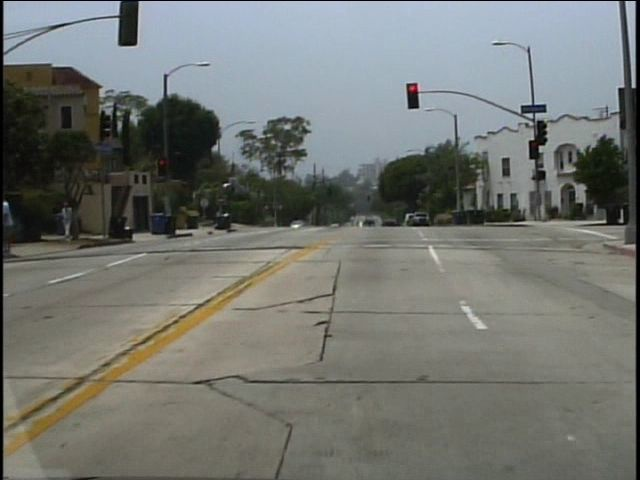person: (64, 200, 78, 242)
